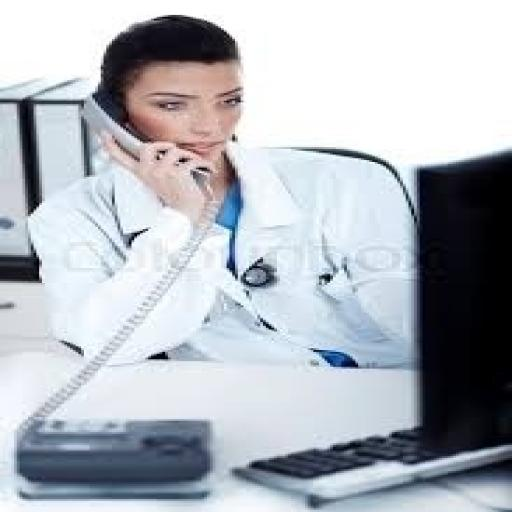calling: (22, 13, 420, 371)
